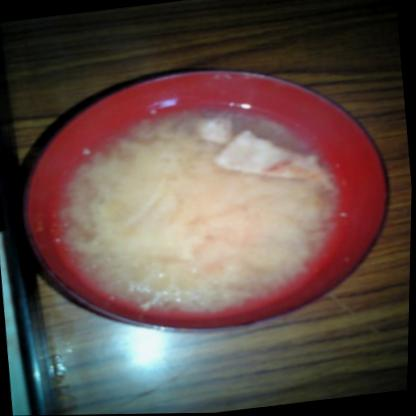miso soup: (44, 86, 354, 333)
